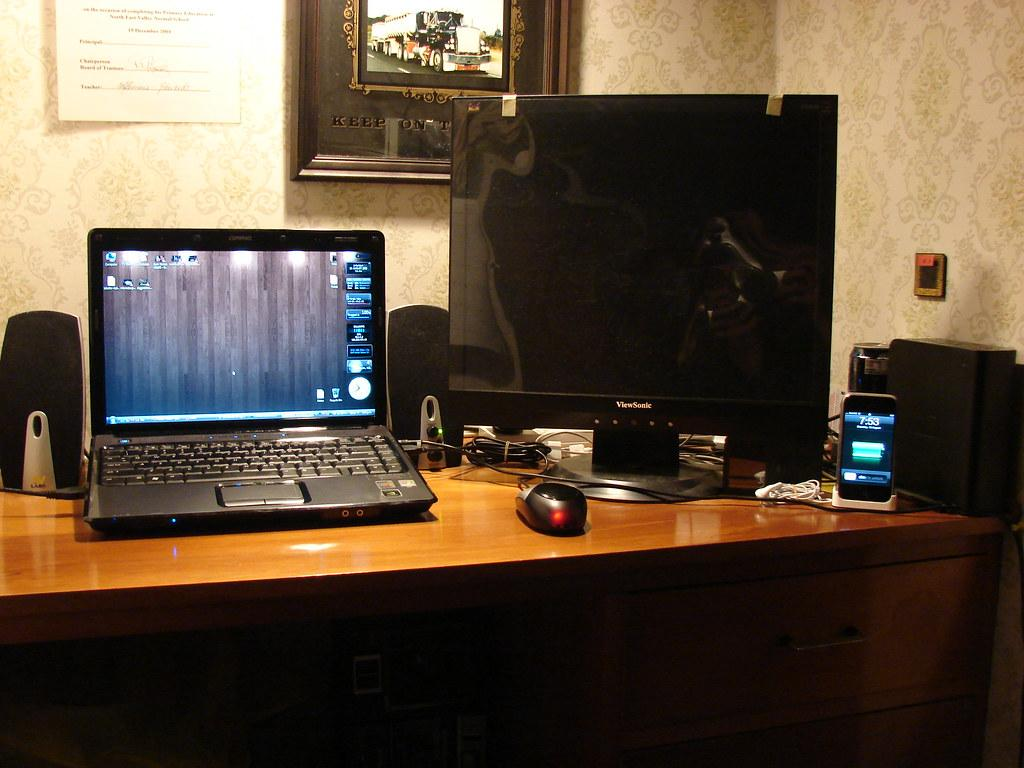computer: (448, 92, 838, 502), (83, 226, 438, 535)
